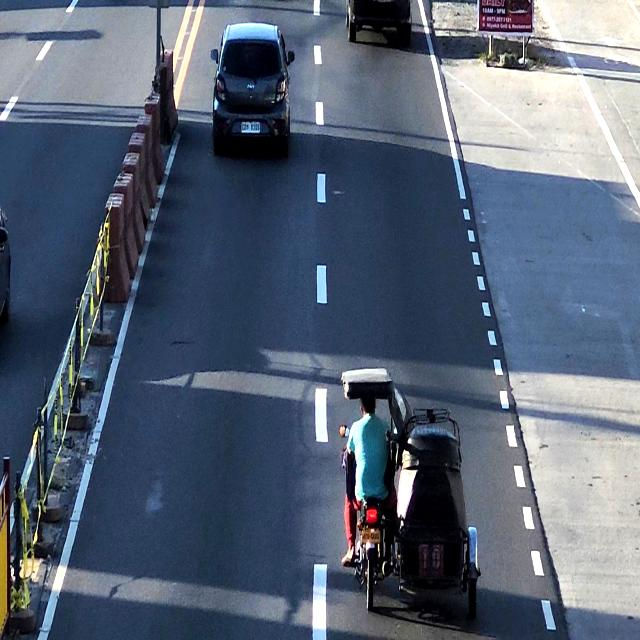Car: (210, 15, 292, 155)
License-Plate: (359, 528, 381, 546), (240, 120, 262, 134)
Tricycle: (336, 376, 484, 614)
